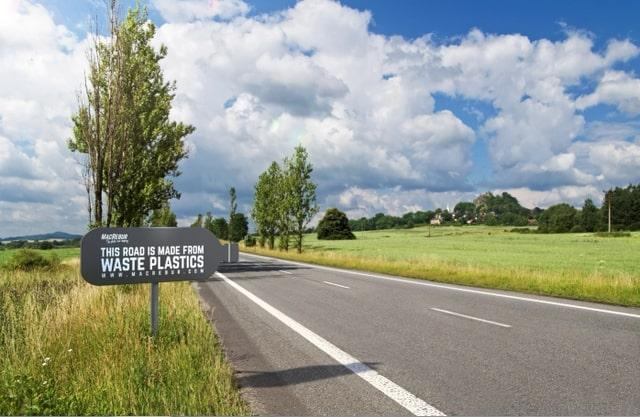indicator: (84, 232, 218, 282)
